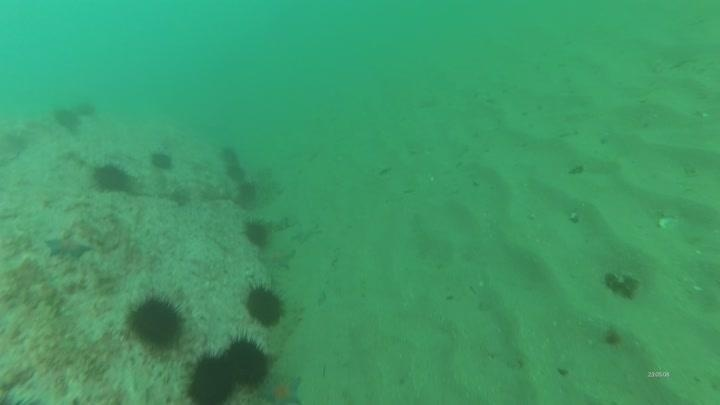echinus: (124, 292, 188, 352), (184, 350, 240, 405), (221, 333, 274, 389), (242, 282, 288, 329), (90, 161, 134, 196), (240, 217, 273, 250), (51, 105, 83, 134), (233, 180, 261, 208), (148, 148, 176, 174), (222, 158, 248, 183), (73, 98, 98, 120), (218, 143, 243, 165)
holothurian: (266, 303, 306, 360)
starfish: (43, 233, 94, 262), (259, 372, 305, 404), (258, 245, 297, 272), (290, 221, 323, 245)
